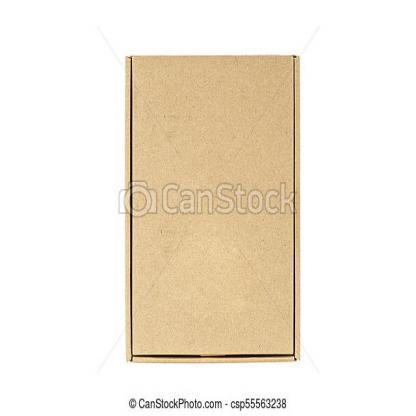package: (128, 57, 299, 361)
